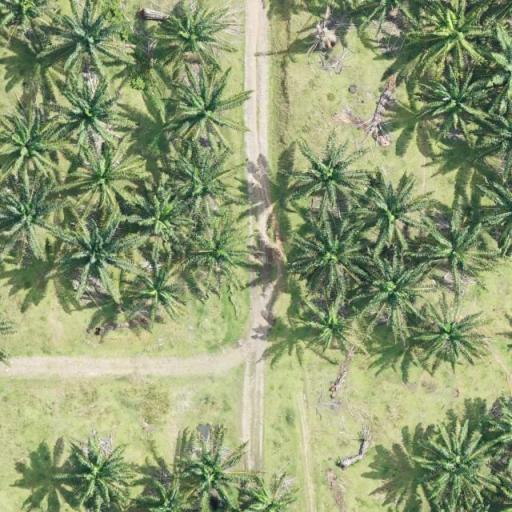Ganoderma: (310, 306, 354, 348)
